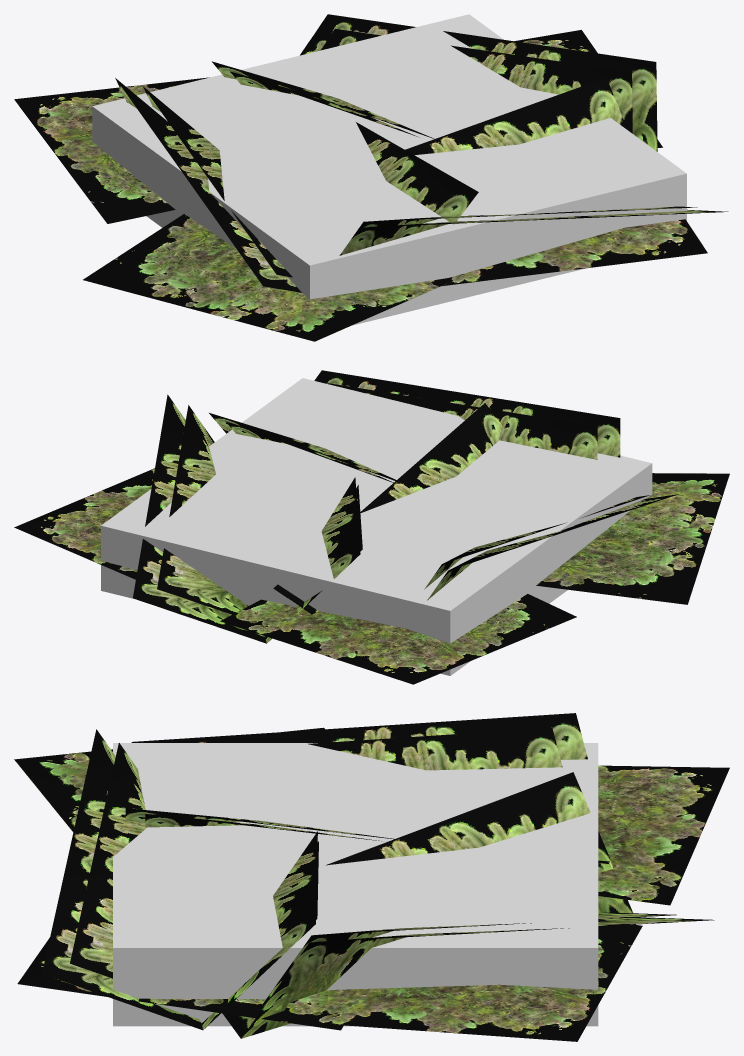
The model's file is grass_field_filler.dae.
3 views of the same model, one above another, from view 1: azimuth 30°, elevation 25°; view 2: azimuth 150°, elevation 25°; view 3: azimuth 270°, elevation 25° (orthographic). The views are drawn at different scales.
Parts seen in each view (by area): view 1: Untitled, grass_field_large300, grass_field_large150; view 2: Untitled, grass_field_large300, grass_field_large150; view 3: Untitled, grass_field_large300, grass_field_large150.
Boxes of the visible parts, x1=… form: Untitled: x1=92, y1=14, x2=686, y2=325; grass_field_large300: x1=14, y1=29, x2=707, y2=341; grass_field_large150: x1=115, y1=14, x2=728, y2=292; Untitled: x1=101, y1=378, x2=652, y2=675; grass_field_large300: x1=14, y1=383, x2=729, y2=684; grass_field_large150: x1=133, y1=370, x2=679, y2=643; Untitled: x1=113, y1=743, x2=598, y2=1026; grass_field_large300: x1=14, y1=727, x2=729, y2=1041; grass_field_large150: x1=42, y1=713, x2=714, y2=1038.
Bounding box in the file's own units: 4.79 × 4.35 × 0.7716.
